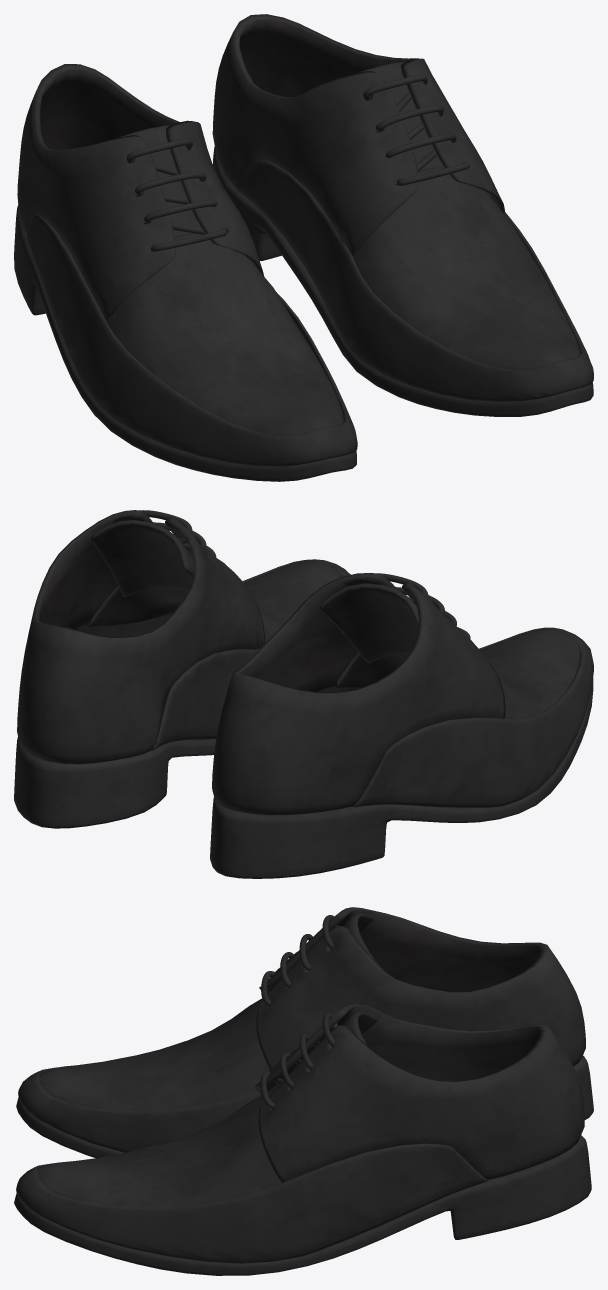
File: Shoe3-2.glb
The picture shows the model from 3 angles, top to bottom: view 1: azimuth 30°, elevation 25°; view 2: azimuth 150°, elevation 25°; view 3: azimuth 270°, elevation 25°; orthographic projection. The views are drawn at different scales.
Parts seen in each view (by area): view 1: Object_4.001; view 2: Object_4.001; view 3: Object_4.001.
Part boxes in pixels (box(x1,y1,x2,y2)): Object_4.001: box(14, 14, 593, 481); Object_4.001: box(14, 510, 593, 878); Object_4.001: box(14, 907, 593, 1275).
Size of the model in its own units: 0.6792 by 0.383 by 0.8852.
1 material, 1 textured.
